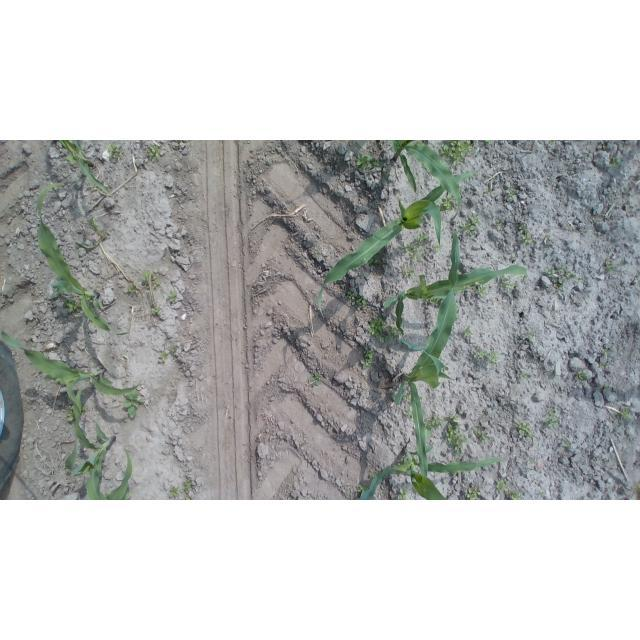Maize: (318, 172, 479, 321), (394, 228, 460, 477), (36, 183, 131, 336), (383, 265, 529, 352), (1, 325, 144, 413), (354, 446, 501, 500), (65, 386, 133, 500), (390, 140, 463, 222), (60, 141, 110, 196), (108, 447, 133, 500), (74, 215, 107, 252)
Weeds: (439, 141, 476, 166), (445, 424, 468, 457), (554, 265, 582, 291), (123, 390, 146, 419), (397, 242, 423, 262), (460, 214, 480, 237), (424, 414, 440, 439), (515, 421, 535, 441), (347, 290, 369, 308), (379, 325, 399, 344), (369, 316, 387, 337), (106, 141, 125, 160), (141, 270, 161, 288), (473, 425, 491, 444), (519, 223, 534, 245), (440, 194, 456, 214), (544, 408, 559, 429), (499, 276, 517, 292), (599, 257, 617, 273), (359, 348, 373, 368), (63, 298, 81, 313), (146, 144, 161, 162), (306, 372, 322, 388), (357, 153, 372, 170), (608, 156, 624, 171), (467, 485, 482, 500), (486, 349, 500, 364), (402, 264, 415, 280), (416, 231, 430, 244), (128, 282, 141, 295), (180, 481, 193, 494), (498, 479, 511, 492), (575, 367, 588, 380), (473, 346, 485, 360), (397, 487, 409, 500), (476, 285, 489, 297), (544, 266, 557, 278), (169, 485, 179, 500), (462, 323, 474, 335), (169, 290, 179, 303), (159, 351, 169, 364), (622, 408, 632, 421), (405, 405, 413, 421), (65, 406, 73, 422), (509, 491, 522, 500), (431, 243, 443, 252), (151, 306, 163, 315), (449, 414, 462, 422), (593, 214, 604, 223), (601, 348, 612, 357), (525, 330, 536, 339), (506, 188, 515, 198), (495, 219, 504, 229), (170, 345, 179, 354), (562, 439, 571, 448), (372, 158, 382, 166), (601, 141, 608, 152), (370, 259, 378, 268), (565, 221, 573, 230), (397, 458, 407, 465), (634, 482, 640, 493), (520, 371, 528, 379), (402, 393, 409, 402), (358, 484, 365, 493), (486, 187, 494, 194), (325, 423, 333, 430), (175, 141, 182, 148), (529, 460, 540, 464), (582, 230, 588, 237), (526, 468, 534, 473), (593, 457, 603, 461), (539, 492, 545, 498), (164, 338, 169, 345), (81, 407, 86, 414), (300, 441, 305, 448), (601, 363, 608, 368), (549, 140, 557, 144), (185, 497, 194, 500), (370, 473, 375, 478), (484, 141, 492, 144), (392, 394, 396, 399), (475, 151, 480, 155), (604, 386, 610, 389), (361, 392, 364, 395)
